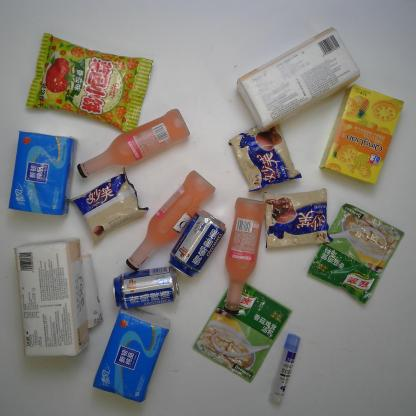Alcohol: (125, 169, 217, 272), (75, 108, 192, 180), (224, 196, 267, 316), (167, 209, 228, 278), (112, 264, 180, 310)
Dessert: (318, 82, 405, 186), (69, 165, 150, 246), (228, 123, 302, 193), (263, 187, 334, 250)
Puffed Food: (24, 31, 154, 133)
Seasoner: (192, 281, 293, 384), (307, 201, 405, 304)
Stationery: (268, 332, 302, 404)
Tissue: (235, 26, 362, 134), (13, 235, 104, 358), (92, 306, 171, 404), (8, 129, 79, 216)
